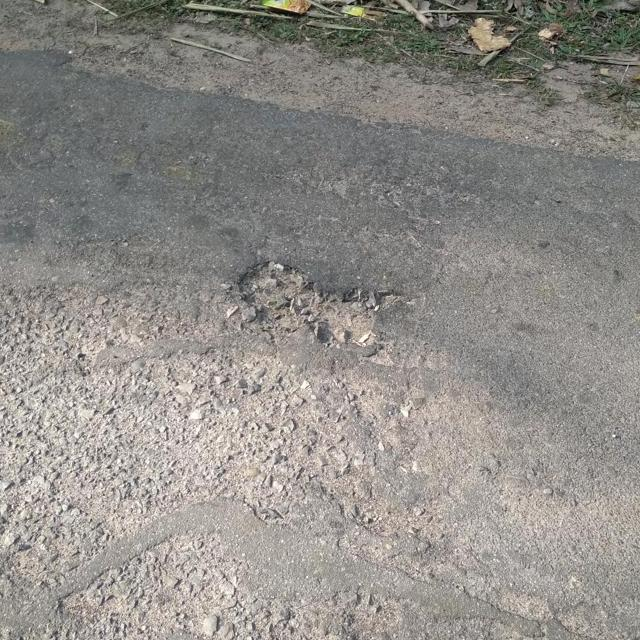lubang_kecil: (204, 233, 401, 381)
